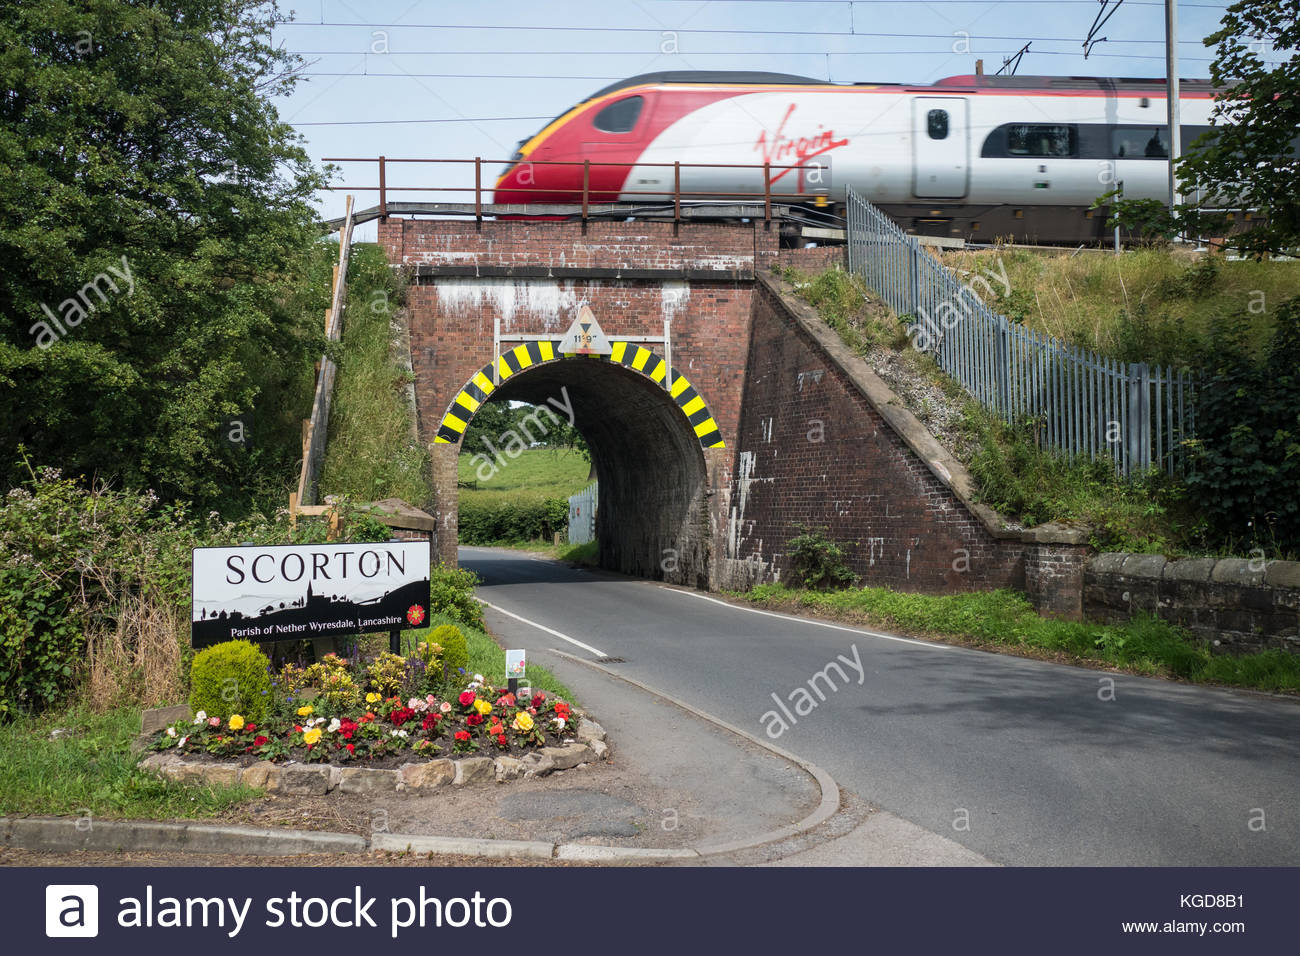bridge: (380, 201, 750, 454)
